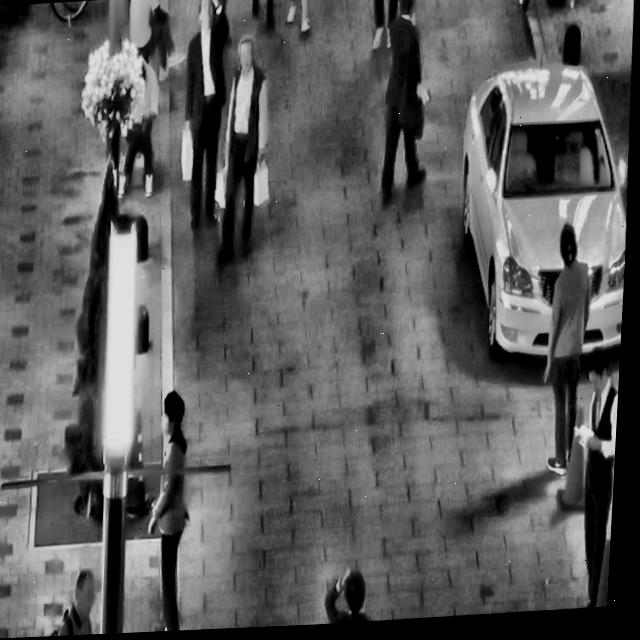light_vehicle: (447, 46, 637, 375)
